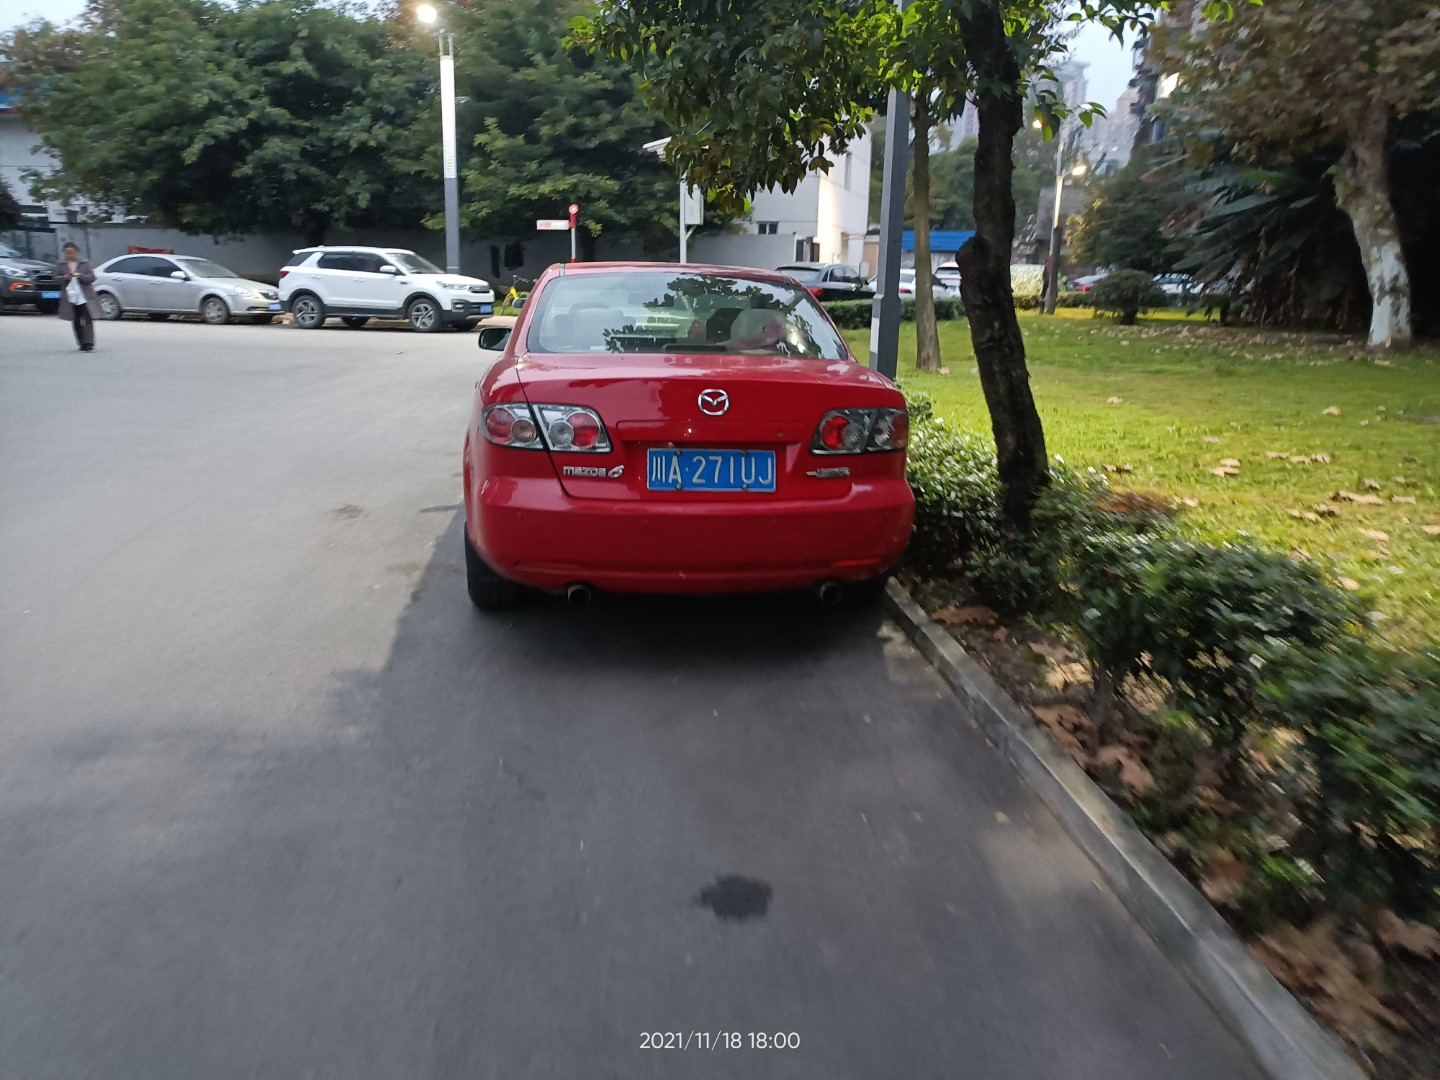plate: (646, 446, 776, 492)
